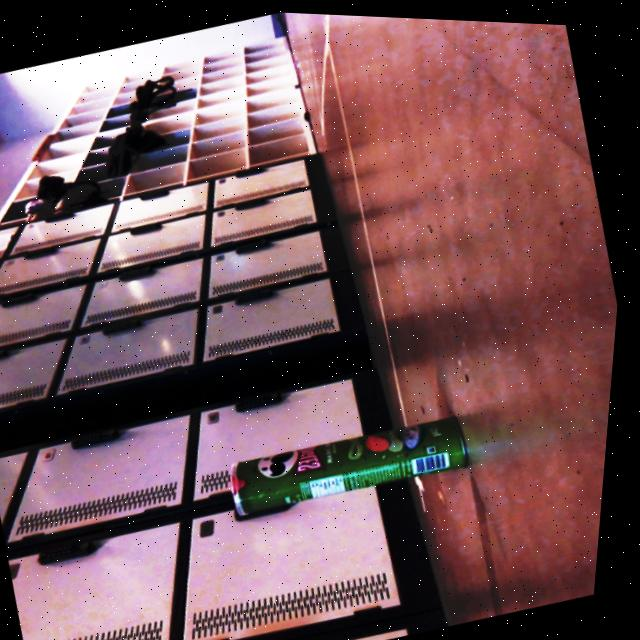greenpringles: (205, 368, 498, 543)
